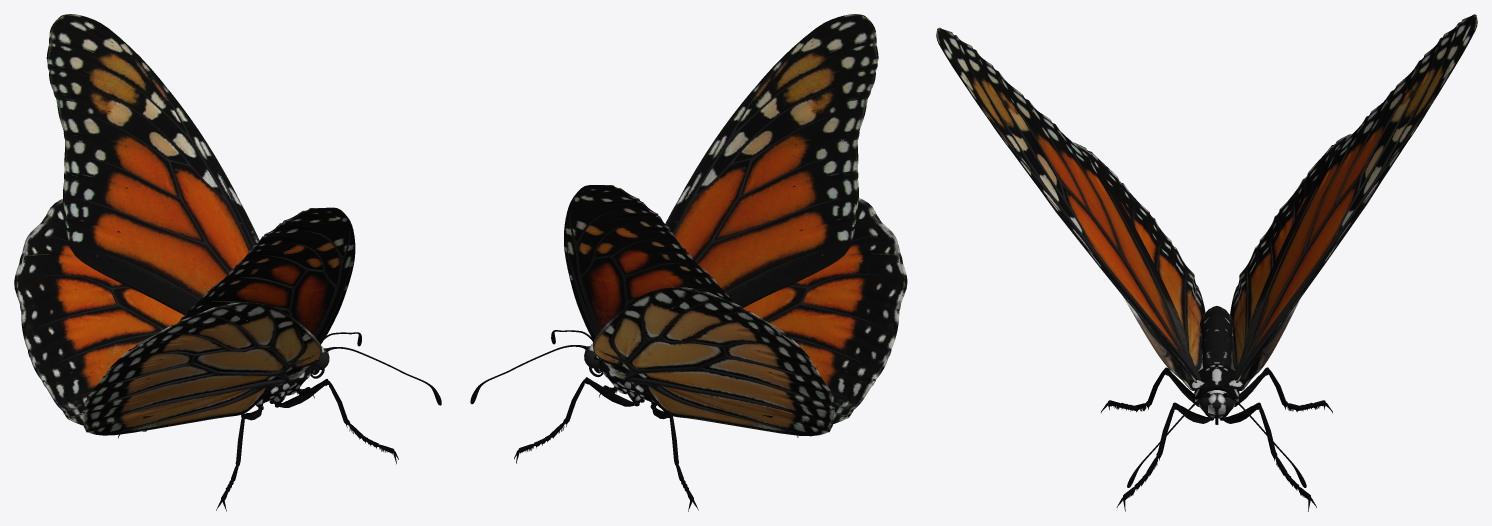
Rendered from Butterfly.gltf.
3 renders of one model, left to right at view 1: azimuth 30°, elevation 25°; view 2: azimuth 150°, elevation 25°; view 3: azimuth 270°, elevation 25°, orthographic. The views are drawn at different scales.
Visible parts, largest first — view 1: node-0; view 2: node-0; view 3: node-0.
Boxes of the visible parts, x1,y1,x2,y2 form: node-0: [14, 14, 441, 511]; node-0: [470, 14, 907, 511]; node-0: [936, 14, 1477, 511].
Size of the model in its own units: 10.45 by 10.73 by 13.04.
2 materials, 2 textured.
